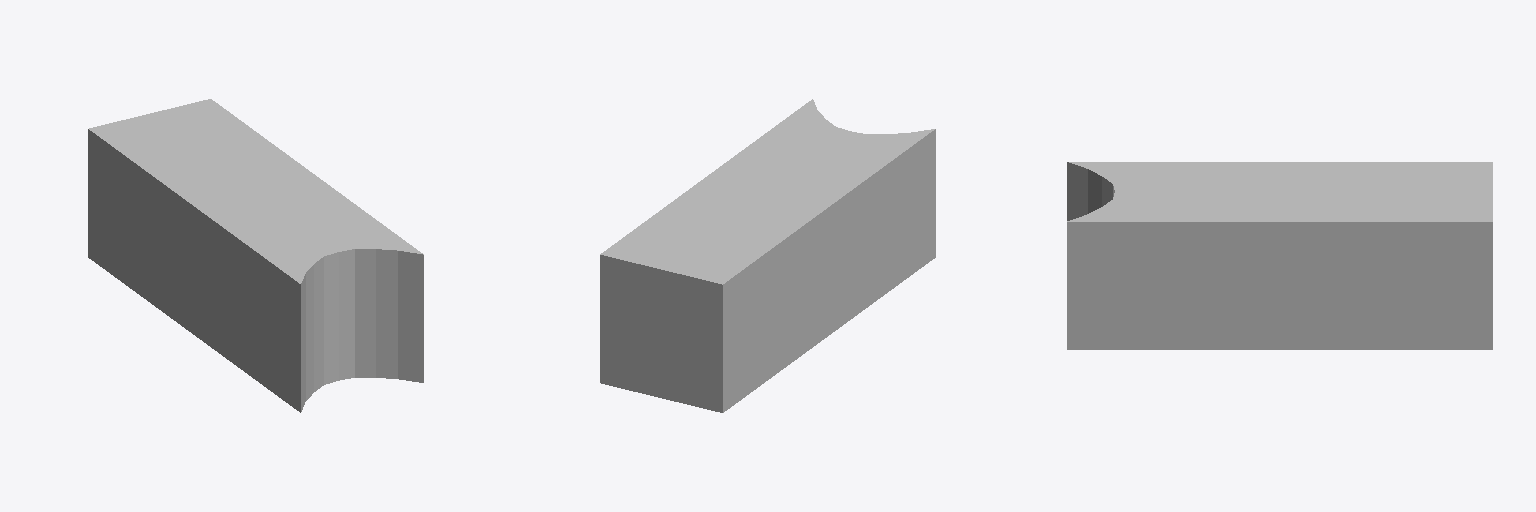
The model's file is Launcher v2.obj.
The picture shows the model from 3 angles: view 1: azimuth 30°, elevation 25°; view 2: azimuth 150°, elevation 25°; view 3: azimuth 270°, elevation 25°; orthographic projection.
Parts seen in each view (by area): view 1: Cube; view 2: Cube; view 3: Cube.
Boxes of the visible parts, box(x1,y1,x2,y2) form: Cube: box(88, 99, 423, 412); Cube: box(600, 99, 935, 412); Cube: box(1067, 162, 1492, 349).
Bounding box in the file's own units: 1 × 1 × 3.